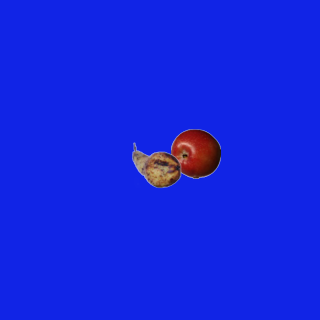Apple Braeburn: (170, 128, 220, 178)
Pear Abate: (131, 140, 181, 190)
